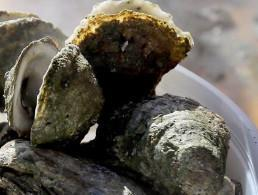3: (67, 0, 194, 146), (3, 40, 103, 144), (0, 11, 68, 113)
Oyster-Closed: (113, 94, 236, 195), (0, 141, 154, 195)
